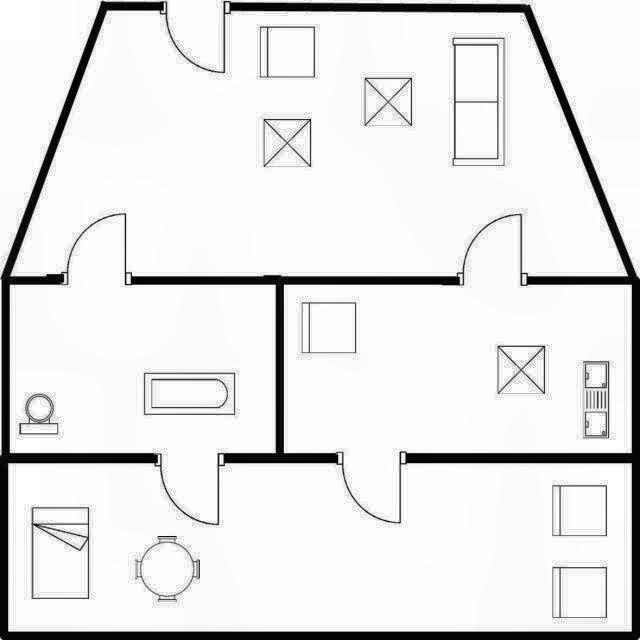room: (10, 10, 630, 278), (9, 464, 631, 632), (284, 284, 631, 452), (10, 284, 275, 452)
